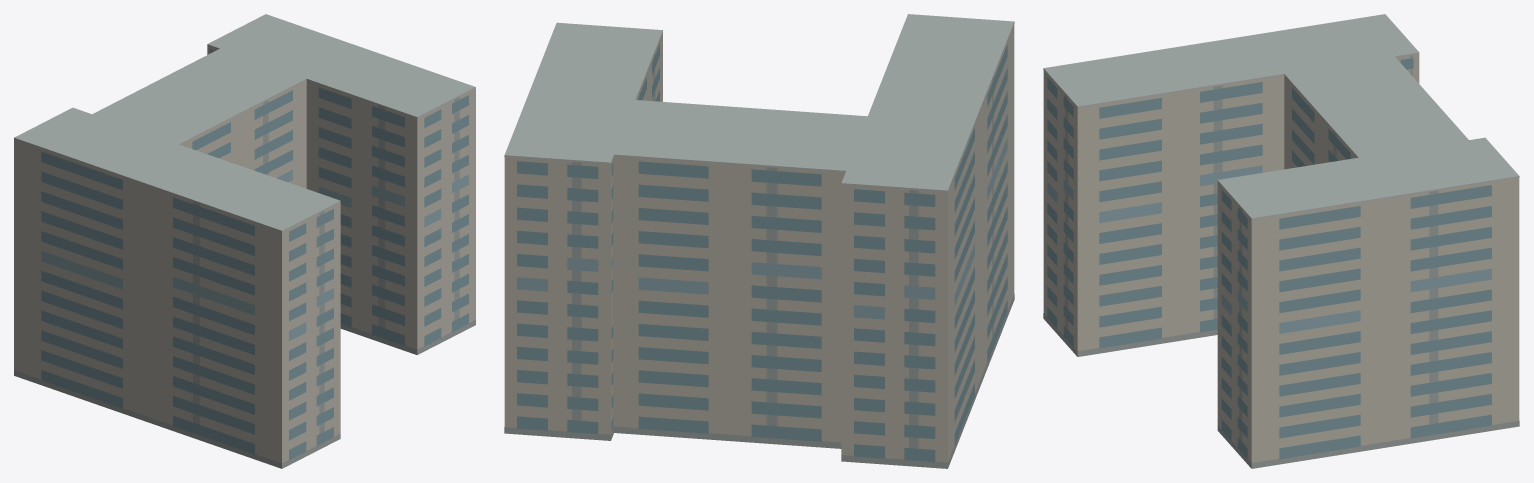
The model's file is residential-633d1709-969b-4bf0-beb8-25410f3448f9.glb.
The picture shows the model from 3 angles, left to right: view 1: azimuth 30°, elevation 25°; view 2: azimuth 150°, elevation 25°; view 3: azimuth 270°, elevation 25°; orthographic projection. The views are drawn at different scales.
Visible parts, largest first — view 1: residential-633d1709-969b-4bf0-beb8-25410f3448f9.tmp; view 2: residential-633d1709-969b-4bf0-beb8-25410f3448f9.tmp; view 3: residential-633d1709-969b-4bf0-beb8-25410f3448f9.tmp.
Part boxes in pixels (x1=…): residential-633d1709-969b-4bf0-beb8-25410f3448f9.tmp: x1=14, y1=14, x2=475, y2=468; residential-633d1709-969b-4bf0-beb8-25410f3448f9.tmp: x1=504, y1=14, x2=1014, y2=468; residential-633d1709-969b-4bf0-beb8-25410f3448f9.tmp: x1=1043, y1=14, x2=1519, y2=468.
Bounding box in the file's own units: 61.26 × 35 × 60.28.
